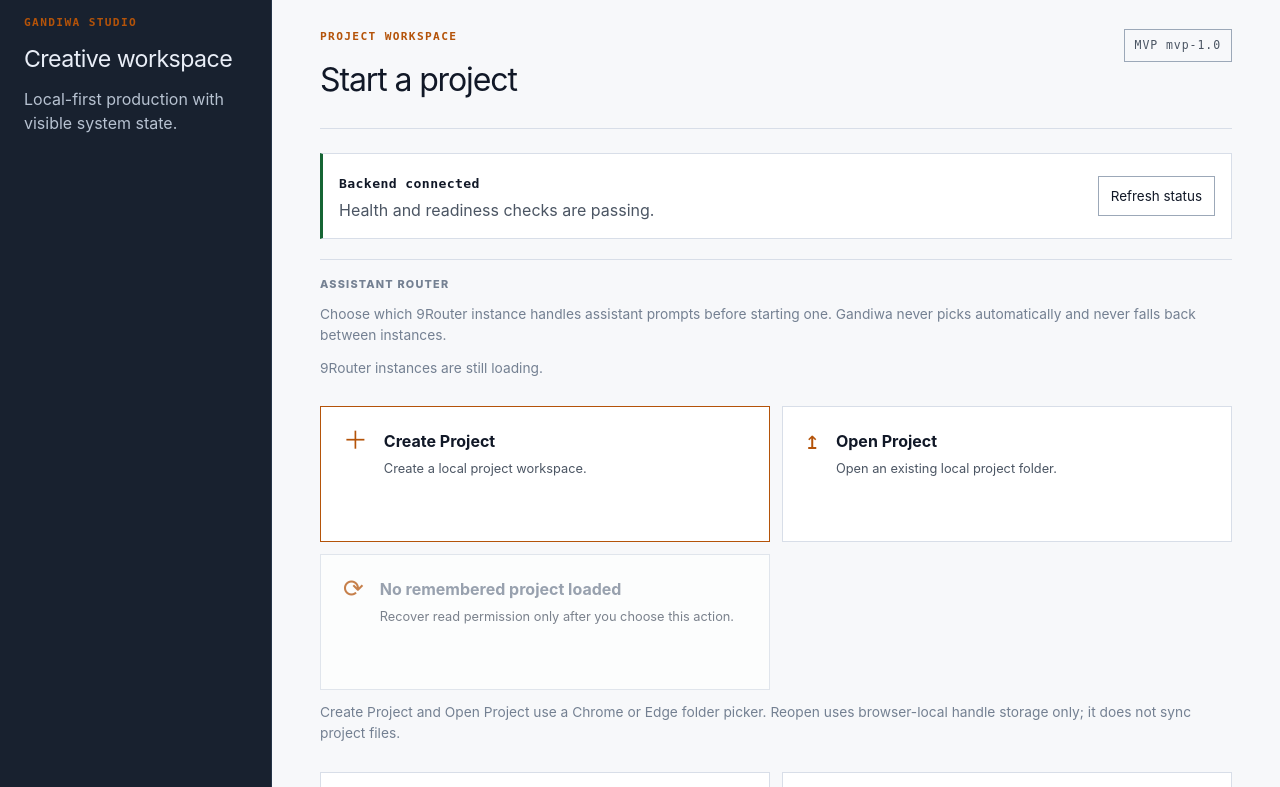
Test: App shell › keeps Reopen available after Open then Close in the same session
Expected: the text "Backend connected" is shown, [339, 176, 480, 191]
Click the button "↥ Open Project Open an existing local project folder.".
click(1007, 474)  # box [782, 406, 1232, 542]
(page scrolled)
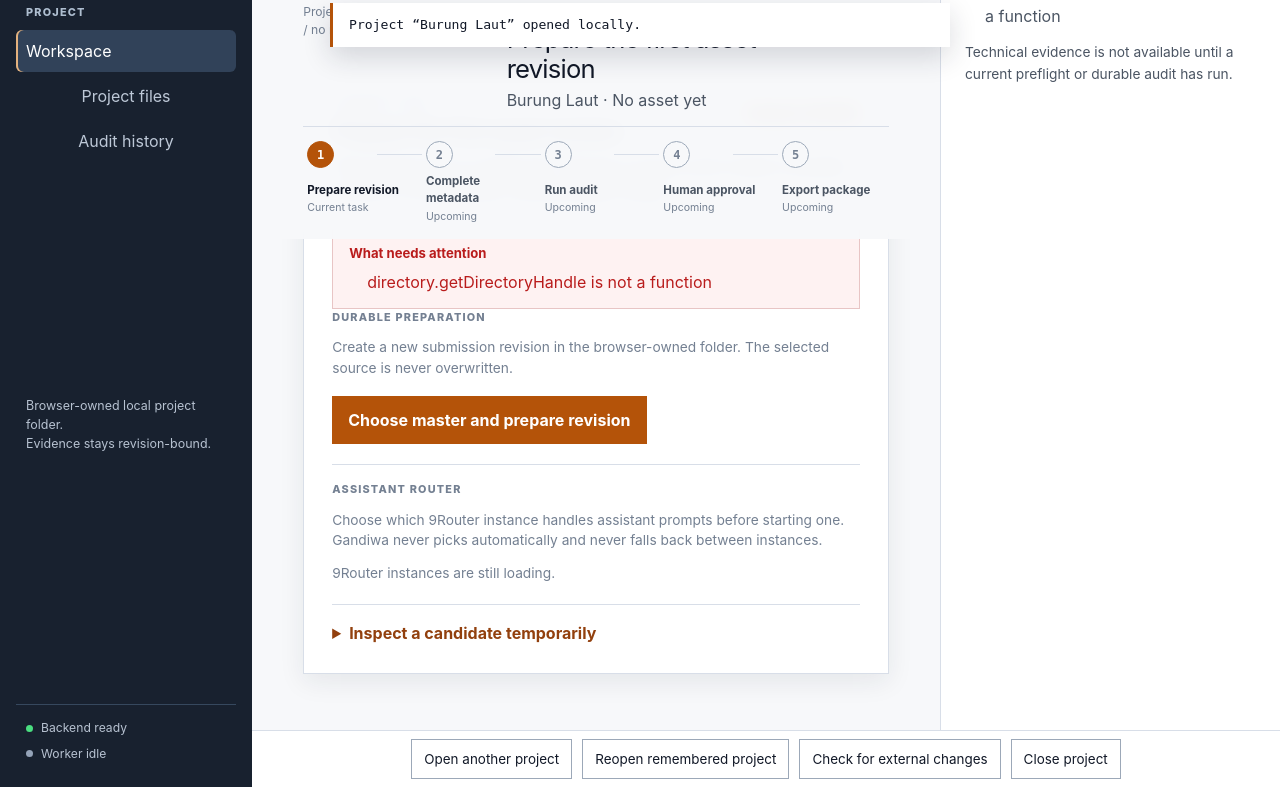
Now the message "Project “Burung Laut” opened locally." is shown, box [330, 3, 950, 47]
Now the button "Reopen remembered project" is enabled, box [582, 739, 789, 779]
Click the button "Close project".
click(1066, 759)  # box [1011, 739, 1121, 779]
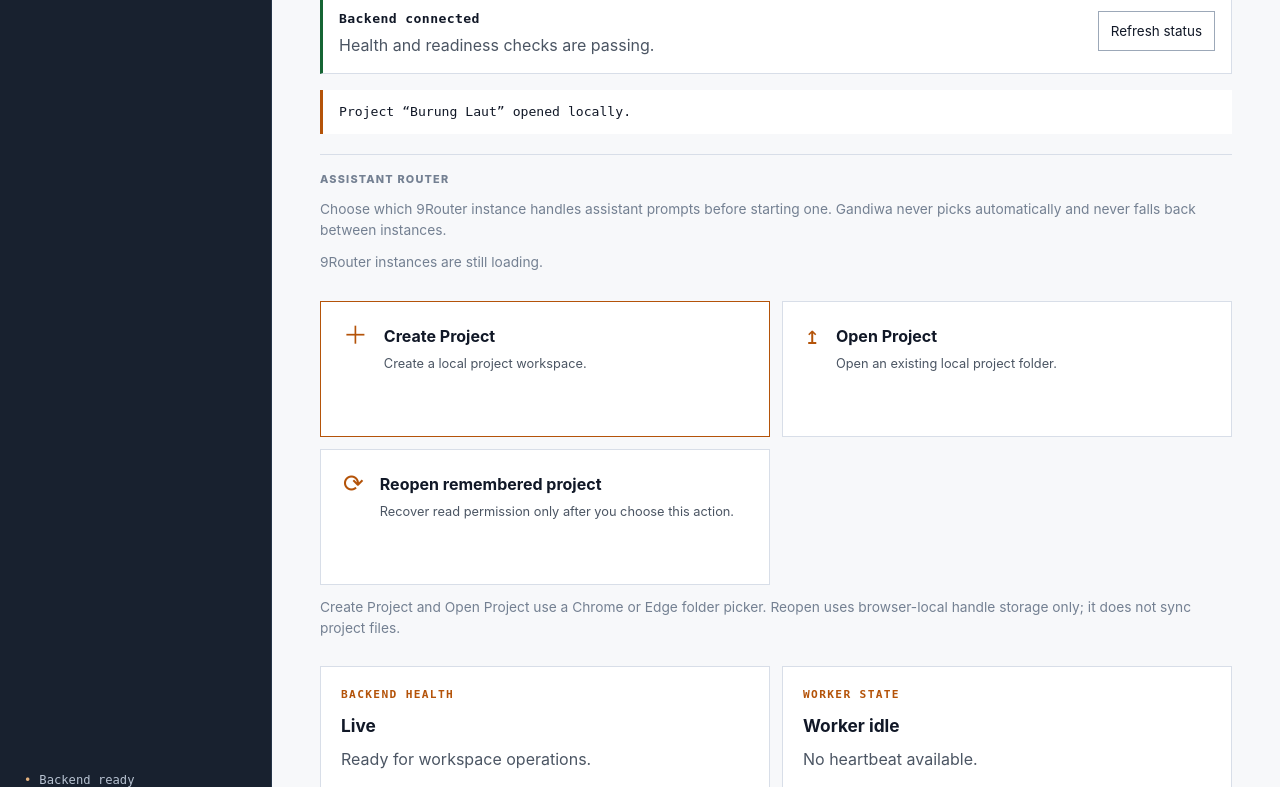
Now the button "Reopen remembered project" is enabled, box [320, 449, 770, 585]
